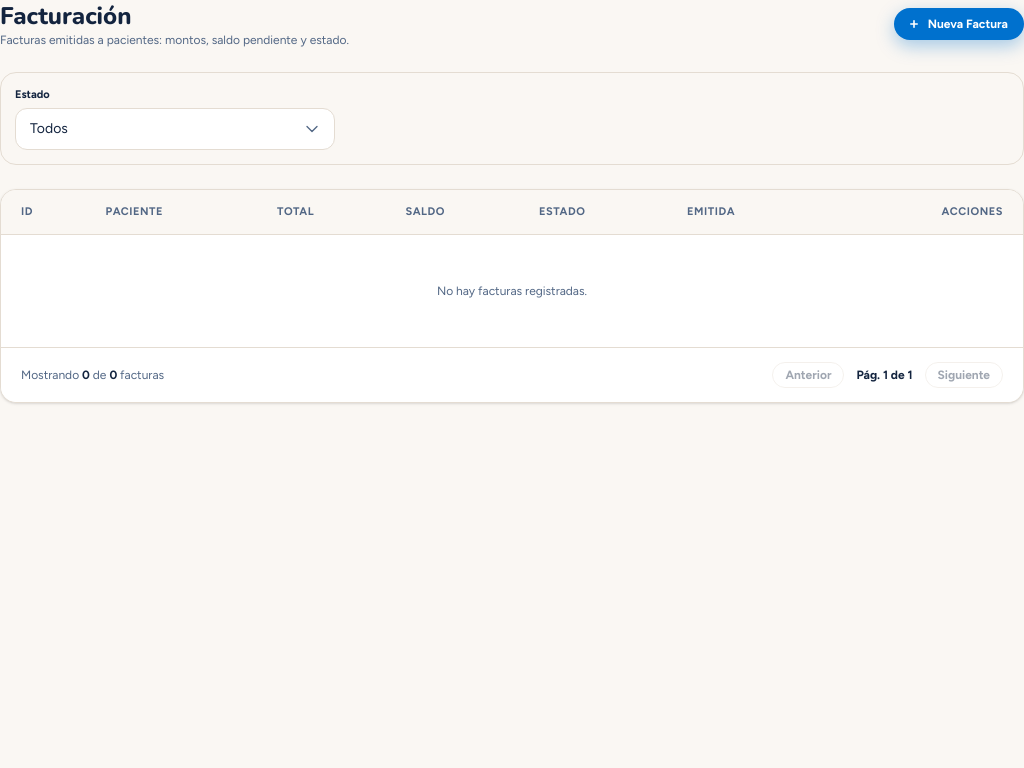
Scenario: FacturacionListComponent › create invoice flow › shows an error message when the patient search request fails (never a silent empty result)
Step 1. Click the button "Nueva Factura" → x=959, y=24, box [894,8,1023,40]
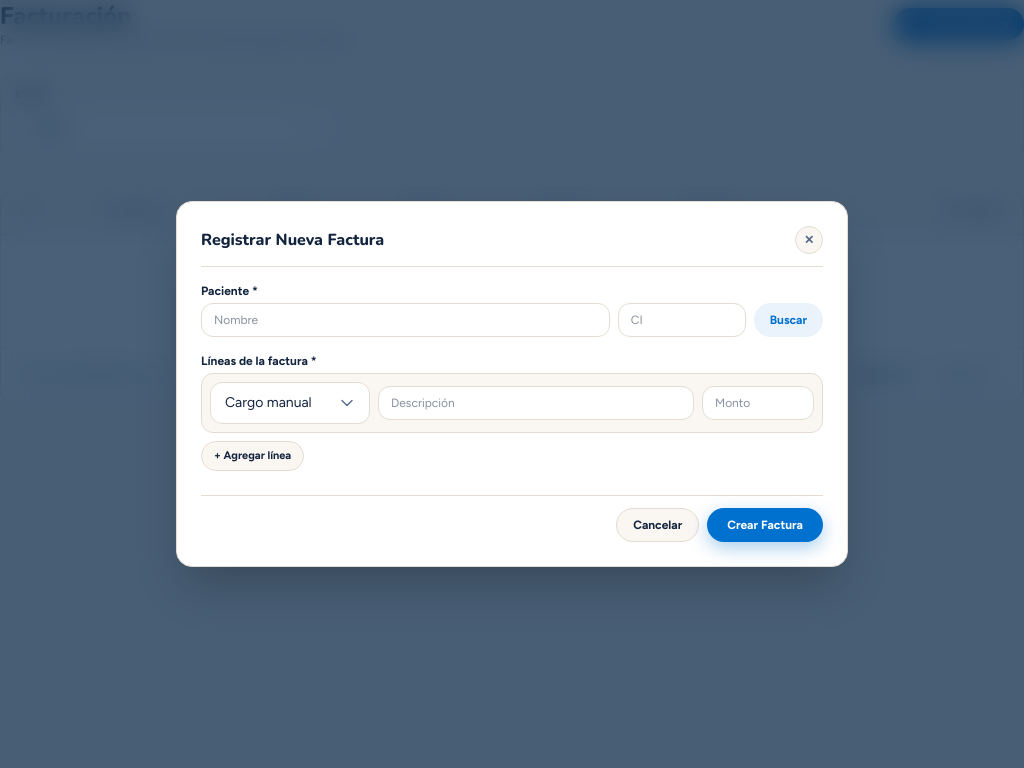
Step 2. Click the button "Buscar" → x=788, y=320, box [754,303,823,337]
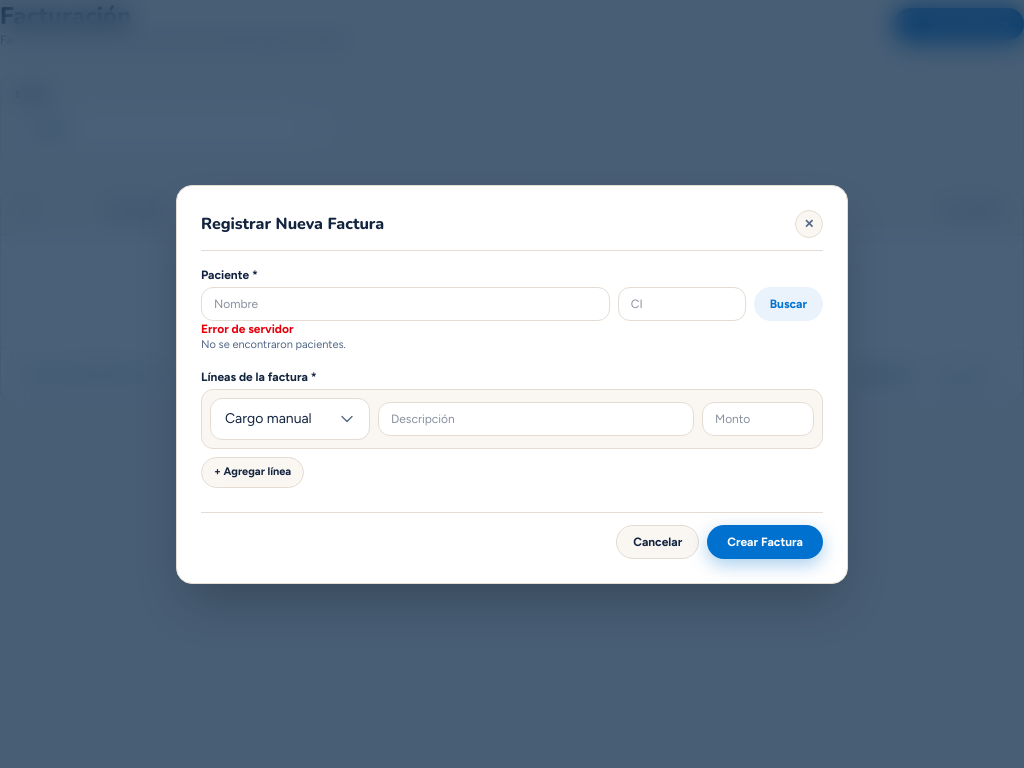
Expected: the text "Error de servidor" is shown, [201,322,294,336]
